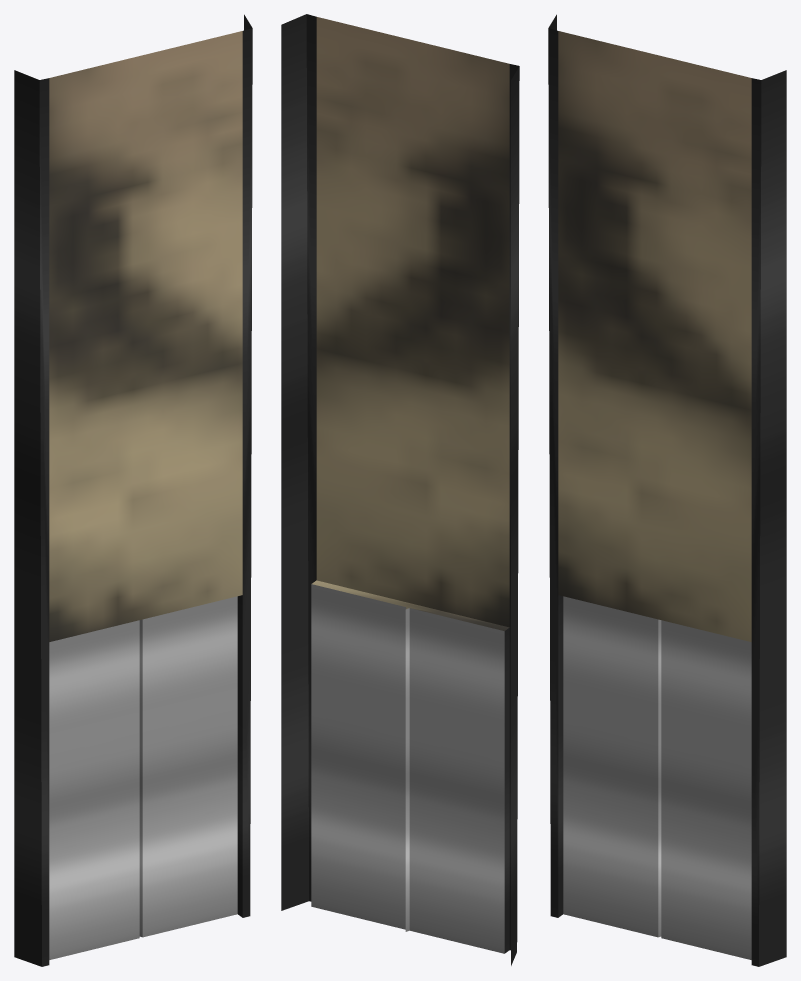
The model's file is Lift_8m.fbx.
3 renders of one model, left to right at view 1: azimuth 30°, elevation 25°; view 2: azimuth 150°, elevation 25°; view 3: azimuth 330°, elevation 25°, orthographic.
Visible parts, largest first — view 1: BlueChip_Interior.195; view 2: BlueChip_Interior.195; view 3: BlueChip_Interior.195.
Boxes of the visible parts, box(x1,y1,x2,y2) form: BlueChip_Interior.195: box(14, 14, 252, 966); BlueChip_Interior.195: box(281, 14, 519, 965); BlueChip_Interior.195: box(548, 14, 786, 966).
Size of the model in its own units: 217 by 800 by 27.74.
